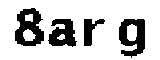8: (11, 5, 45, 51)
a: (46, 14, 78, 53)
g: (113, 16, 149, 60)
r: (81, 15, 110, 52)
